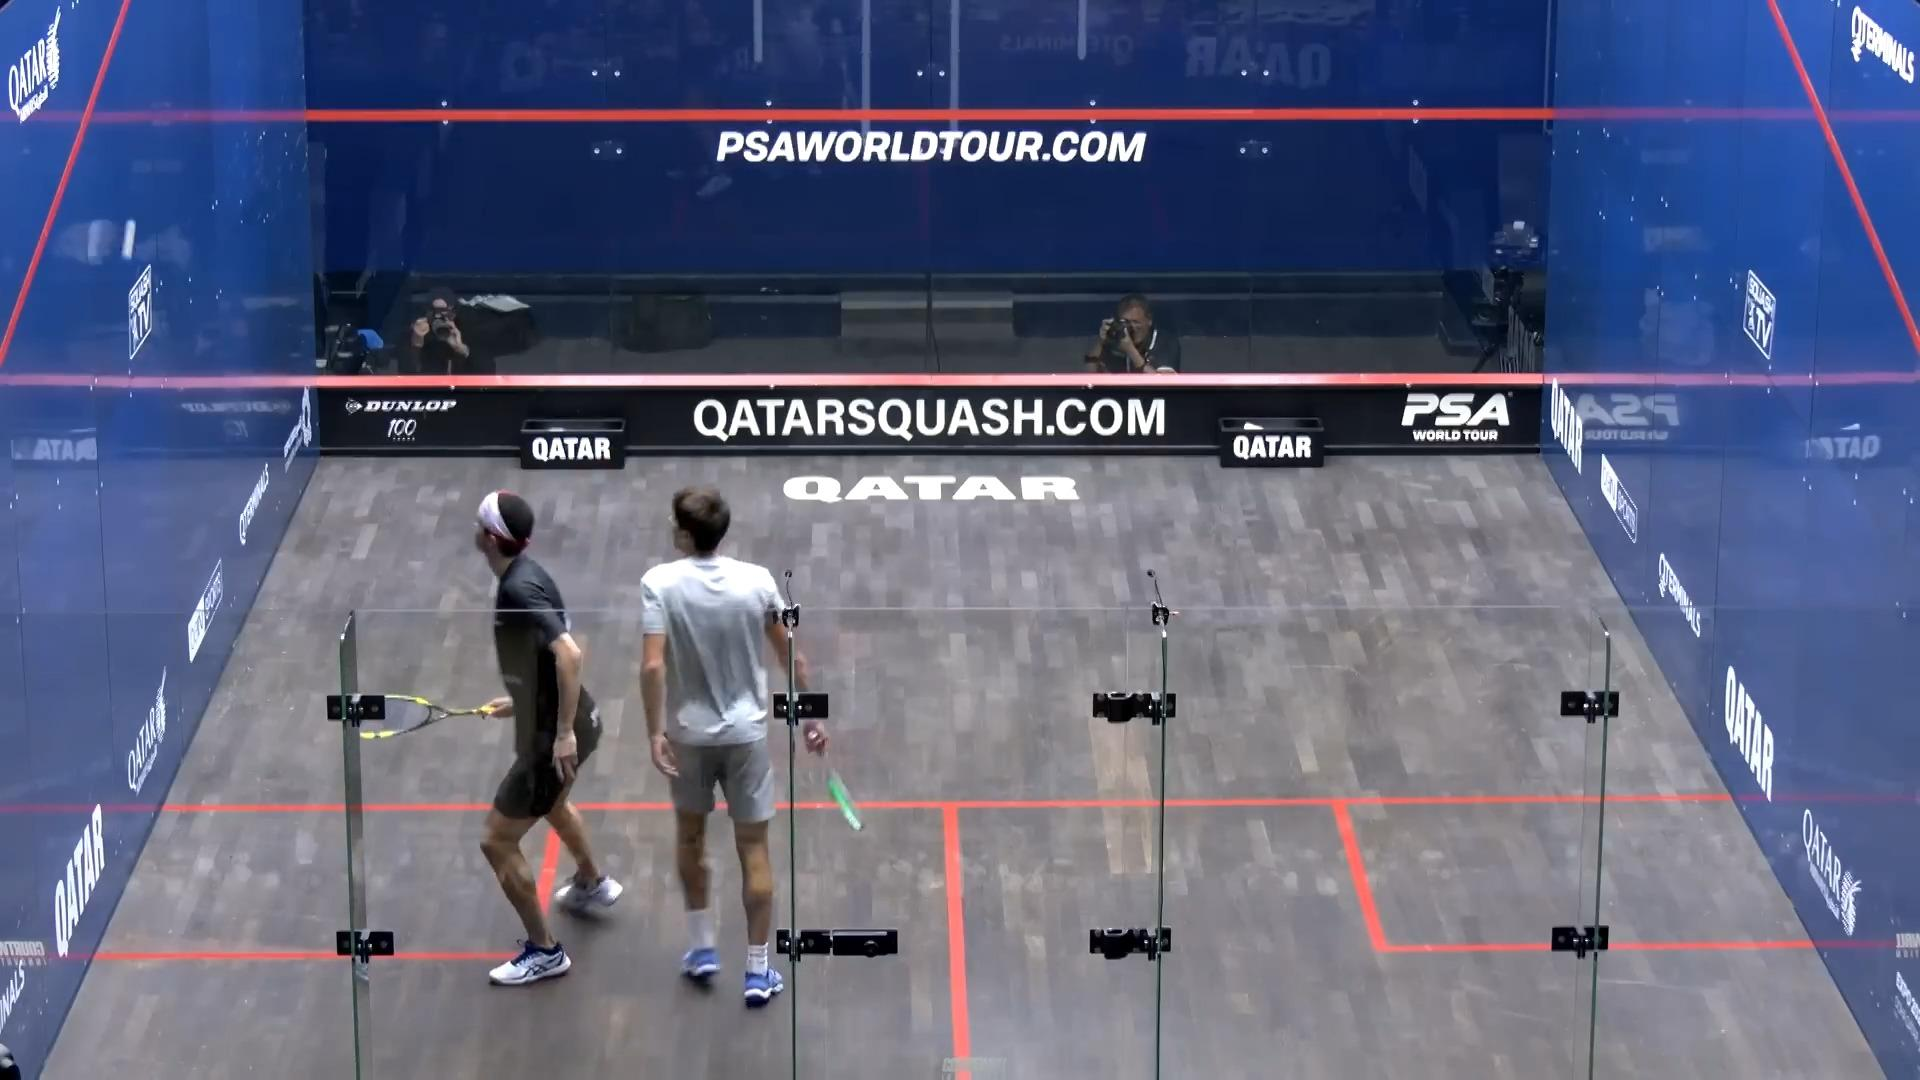Racket: (352, 687, 501, 754)
